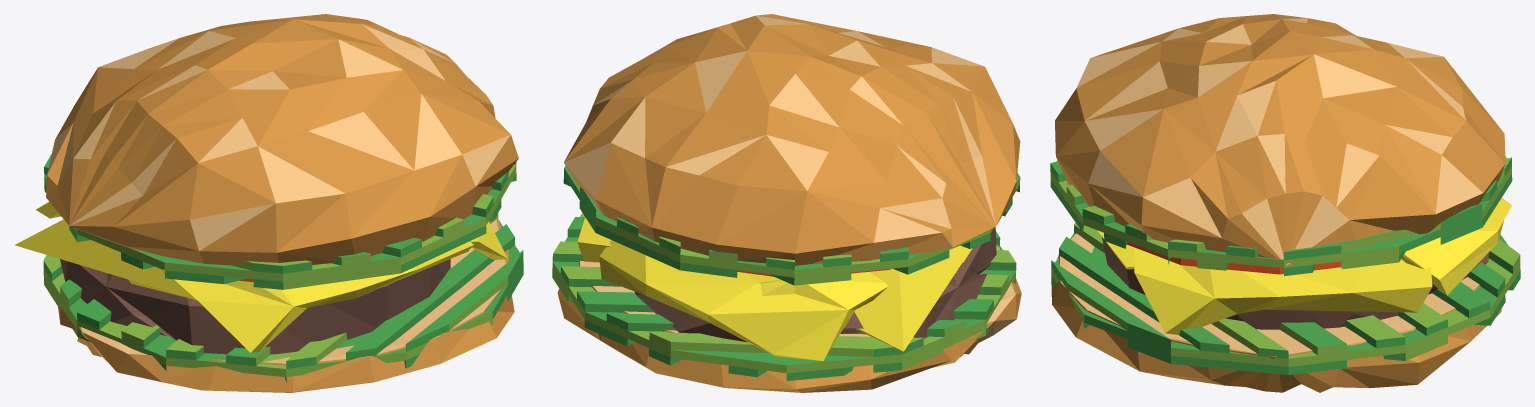
The model's file is Burger.fbx.
3 renders of one model, left to right at view 1: azimuth 30°, elevation 25°; view 2: azimuth 150°, elevation 25°; view 3: azimuth 270°, elevation 25°, orthographic. The views are drawn at different scales.
Visible parts, largest first — view 1: mesh_1284995476, mesh_1488434102, mesh_1922862970, mesh_1106661453, mesh_344290520, mesh_911135816, mesh_1757321439; view 2: mesh_1284995476, mesh_1488434102, mesh_521834240, mesh_911135816, mesh_1922862970, mesh_344290520, mesh_1106661453, mesh_1757321439; view 3: mesh_1284995476, mesh_1488434102, mesh_1757321439, mesh_1922862970, mesh_911135816, mesh_521834240, mesh_1106661453, mesh_512809872, mesh_344290520.
Boxes of the visible parts, <box> form: mesh_1284995476: <box>46,14,518,265</box>; mesh_1488434102: <box>43,213,523,383</box>; mesh_1922862970: <box>58,218,514,392</box>; mesh_1106661453: <box>60,259,450,354</box>; mesh_344290520: <box>14,219,473,352</box>; mesh_911135816: <box>44,154,516,289</box>; mesh_1757321439: <box>469,221,507,259</box>; mesh_1284995476: <box>564,14,1020,265</box>; mesh_1488434102: <box>552,213,1016,380</box>; mesh_521834240: <box>599,240,887,360</box>; mesh_911135816: <box>563,166,1020,285</box>; mesh_1922862970: <box>557,245,1021,392</box>; mesh_344290520: <box>854,245,972,351</box>; mesh_1106661453: <box>634,227,996,342</box>; mesh_1757321439: <box>577,217,611,262</box>; mesh_1284995476: <box>1055,14,1505,265</box>; mesh_1488434102: <box>1051,222,1520,374</box>; mesh_1757321439: <box>1133,247,1432,334</box>; mesh_1922862970: <box>1051,233,1501,392</box>; mesh_911135816: <box>1050,156,1512,276</box>; mesh_521834240: <box>1401,198,1511,295</box>; mesh_1106661453: <box>1102,237,1488,329</box>; mesh_512809872: <box>1127,242,1341,274</box>; mesh_344290520: <box>1097,230,1134,269</box>.
Size of the model in its own units: 25.56 by 16.89 by 25.06.
